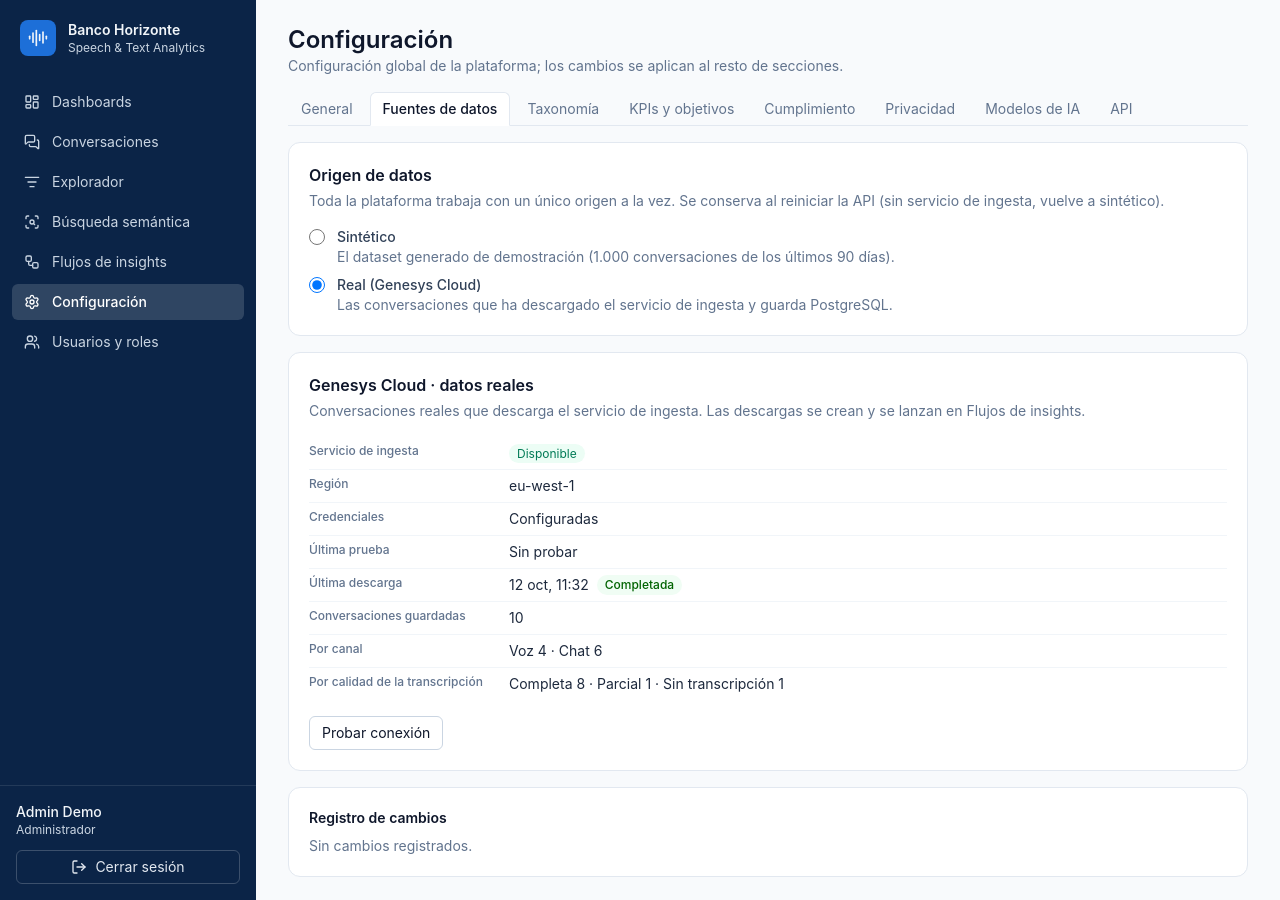
Scenario: Configuración: origen de datos (FE012) › con el origen real se puede volver a sintético
Expected: the radio button labelled "Real (Genesys Cloud)" is checked, [309, 277, 325, 293]
Click the radio button labelled "Sintético": (317, 237) [309, 229, 325, 245]
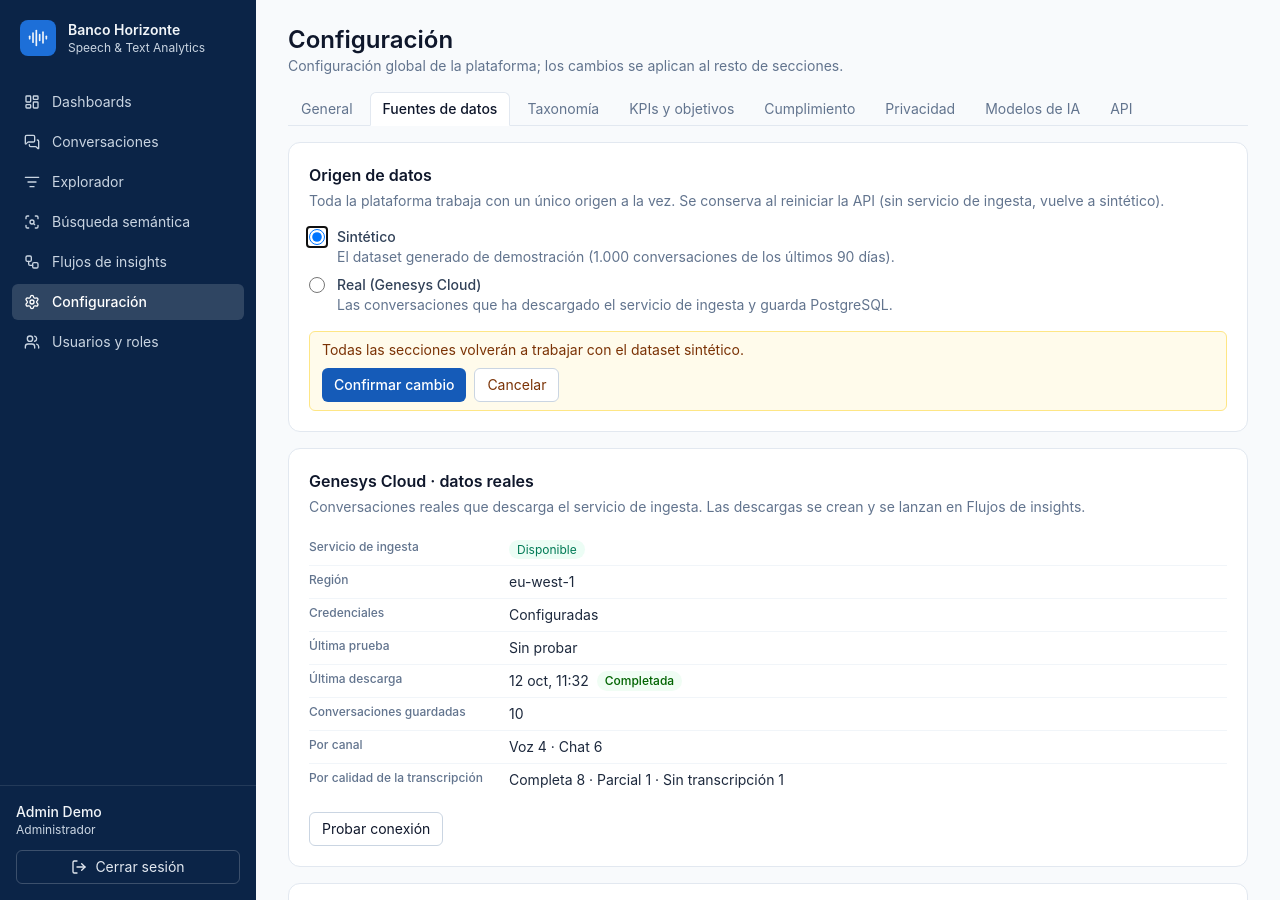
Click the button "Confirmar cambio": (394, 385) [322, 368, 466, 402]
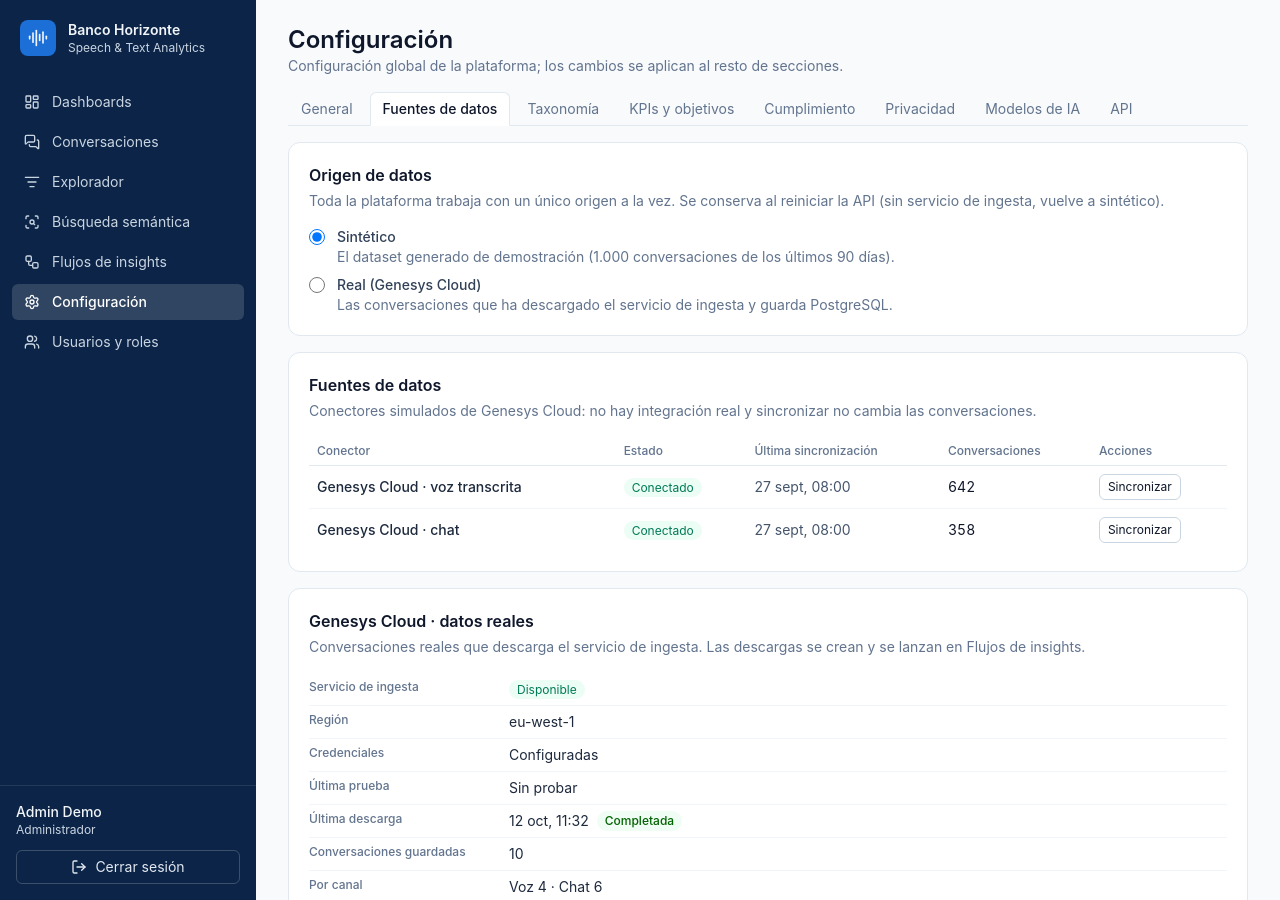
Expected: the text "Genesys Cloud · voz transcrita" is shown, [309, 466, 616, 508]
